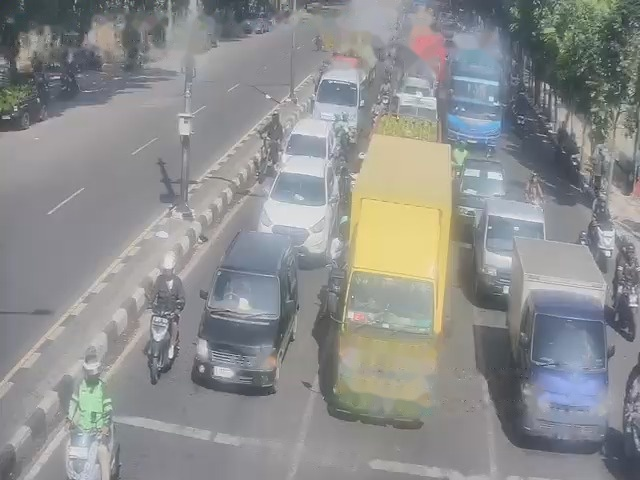Bis: (447, 49, 503, 146), (312, 68, 363, 143)
Mobil: (507, 243, 604, 449), (202, 226, 299, 392), (472, 197, 545, 304), (265, 156, 336, 248), (455, 157, 505, 226), (283, 118, 335, 163)
Motor: (66, 347, 118, 478), (321, 216, 347, 315), (149, 300, 172, 381), (614, 278, 638, 339), (589, 221, 614, 273), (525, 173, 543, 206)
Truk: (352, 123, 454, 420)
